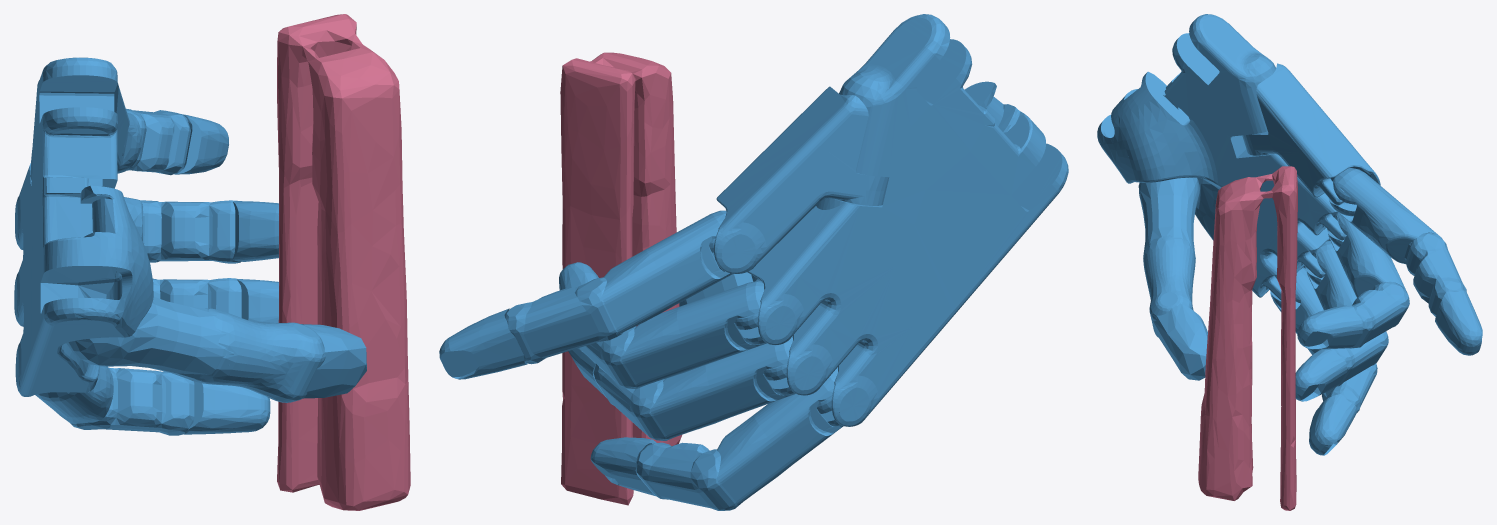
3 views of the same model, side by side, from view 1: azimuth 30°, elevation 25°; view 2: azimuth 150°, elevation 25°; view 3: azimuth 270°, elevation 25° (orthographic). The views are drawn at different scales.
Parts seen in each view (by area): view 1: 0; view 2: 0; view 3: 0.
Part boxes in pixels (bbox=[...]): 0: bbox=[14, 14, 410, 510]; 0: bbox=[439, 14, 1068, 510]; 0: bbox=[1097, 14, 1482, 510].
Bounding box in the file's own units: 0.1433 × 0.1759 × 0.1605.
